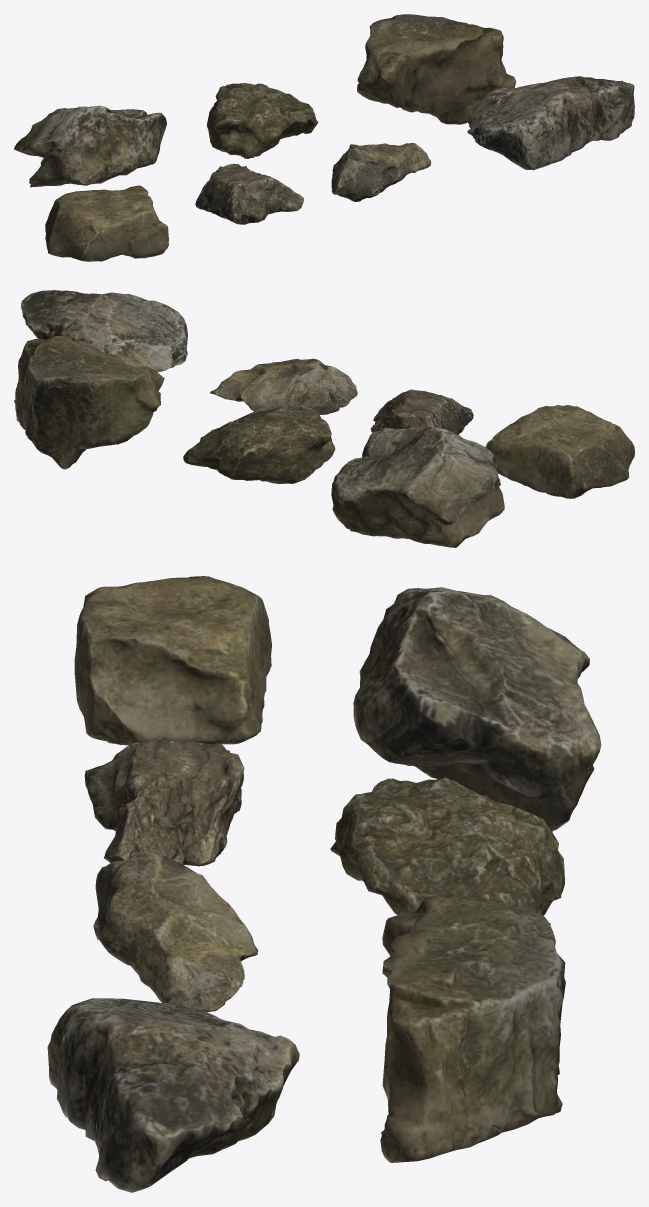
Rendered from rock_moss_set_02.glb.
3 renders of one model, top to bottom at view 1: azimuth 30°, elevation 25°; view 2: azimuth 150°, elevation 25°; view 3: azimuth 270°, elevation 25°, orthographic. The views are drawn at different scales.
Parts seen in each view (by area): view 1: rock_moss_set_02_rock13, rock_moss_set_02_rock10, rock_moss_set_02_rock11, rock_moss_set_02_rock07, rock_moss_set_02_rock12, rock_moss_set_02_rock08, rock_moss_set_02_rock09; view 2: rock_moss_set_02_rock11, rock_moss_set_02_rock13, rock_moss_set_02_rock07, rock_moss_set_02_rock10, rock_moss_set_02_rock12, rock_moss_set_02_rock09, rock_moss_set_02_rock08; view 3: rock_moss_set_02_rock13, rock_moss_set_02_rock11, rock_moss_set_02_rock10, rock_moss_set_02_rock07, rock_moss_set_02_rock12, rock_moss_set_02_rock09, rock_moss_set_02_rock08.
Boxes of the visible parts, x1,y1,x2,y2 form: rock_moss_set_02_rock13: [357, 14, 516, 124]; rock_moss_set_02_rock10: [467, 76, 634, 170]; rock_moss_set_02_rock11: [14, 105, 166, 187]; rock_moss_set_02_rock07: [45, 185, 168, 261]; rock_moss_set_02_rock12: [206, 83, 318, 158]; rock_moss_set_02_rock08: [195, 163, 303, 224]; rock_moss_set_02_rock09: [331, 143, 431, 201]; rock_moss_set_02_rock11: [331, 426, 504, 547]; rock_moss_set_02_rock13: [14, 336, 164, 469]; rock_moss_set_02_rock07: [485, 405, 634, 498]; rock_moss_set_02_rock10: [21, 290, 187, 372]; rock_moss_set_02_rock12: [183, 405, 335, 484]; rock_moss_set_02_rock09: [210, 358, 357, 414]; rock_moss_set_02_rock08: [370, 389, 473, 434]; rock_moss_set_02_rock13: [380, 894, 565, 1162]; rock_moss_set_02_rock11: [353, 587, 601, 832]; rock_moss_set_02_rock10: [47, 998, 299, 1192]; rock_moss_set_02_rock07: [74, 576, 271, 745]; rock_moss_set_02_rock12: [330, 777, 564, 925]; rock_moss_set_02_rock09: [93, 850, 258, 1012]; rock_moss_set_02_rock08: [84, 740, 244, 866].
Bounding box in the file's own units: 8.28 × 1.36 × 3.41.
Materials: 1 (1 with a texture image).
